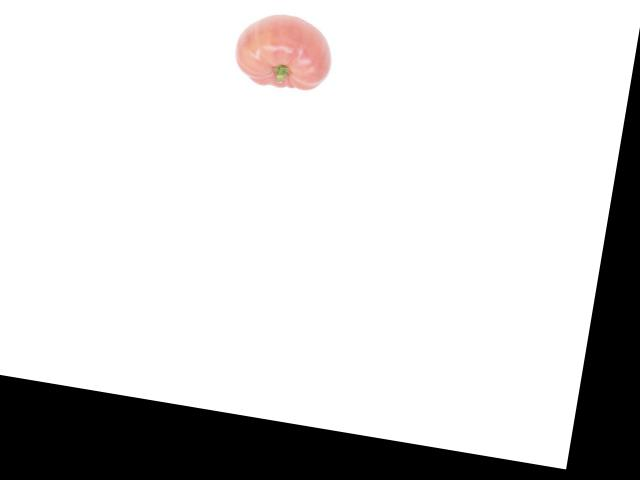tomato: (230, 7, 336, 93)
